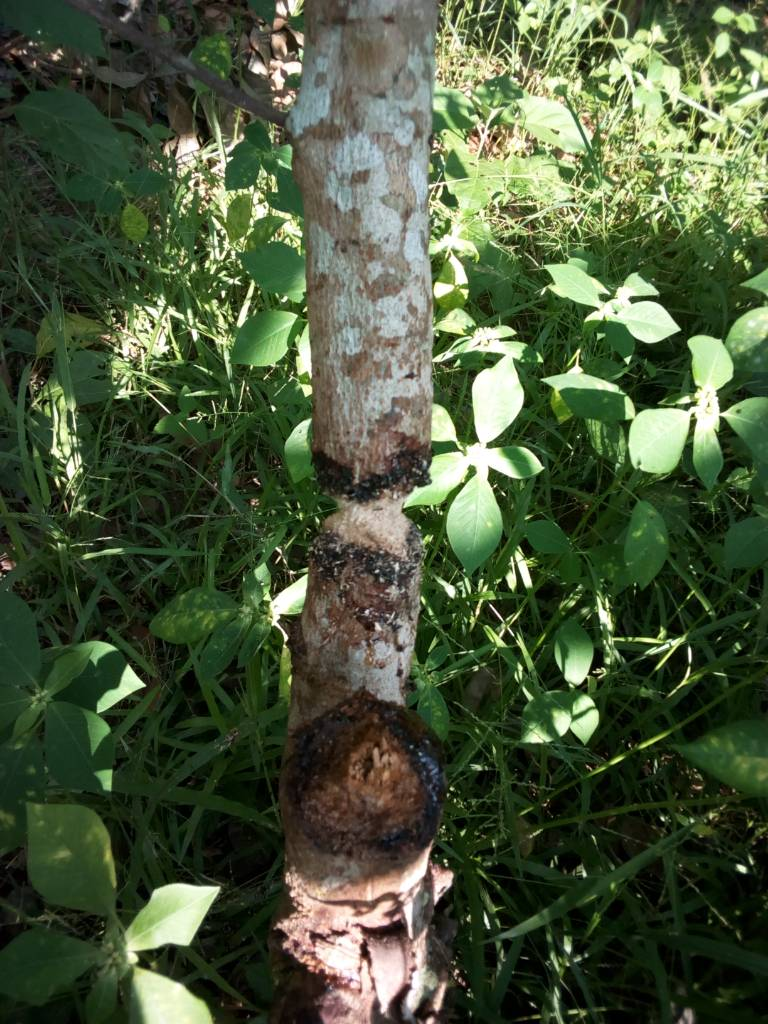Analepse trifasciata: (299, 444, 441, 564)
